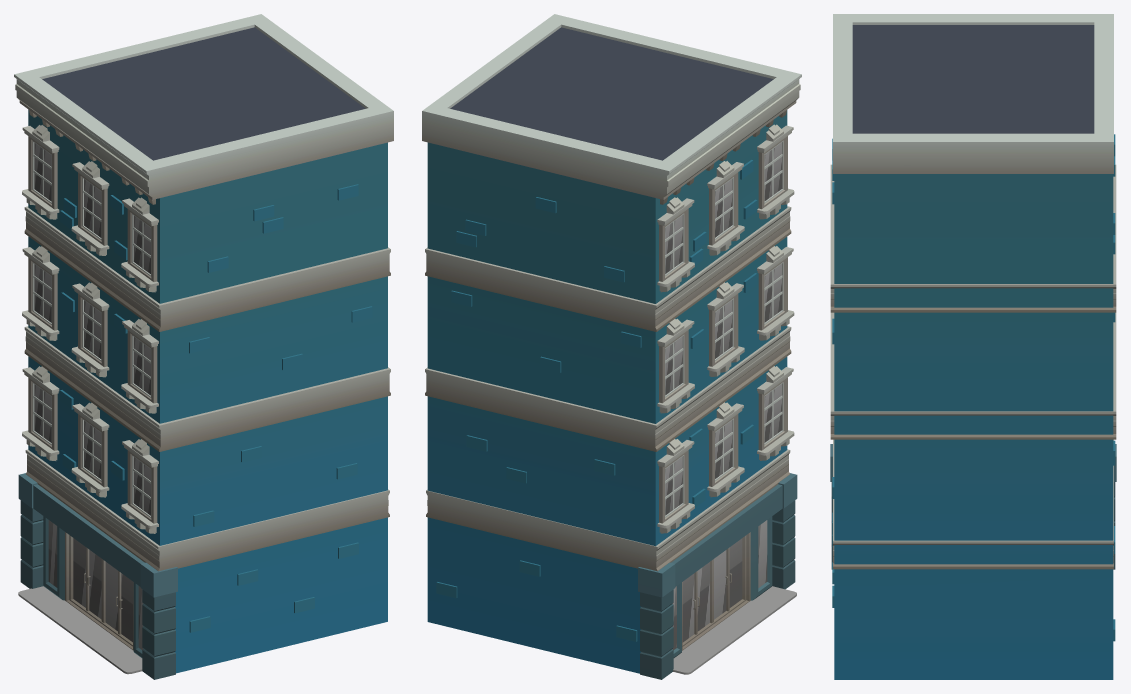
Rendered from Building_21_2_J.fbx.
3 renders of one model, left to right at view 1: azimuth 30°, elevation 25°; view 2: azimuth 150°, elevation 25°; view 3: azimuth 270°, elevation 25°, orthographic. The views are drawn at different scales.
Parts seen in each view (by area): view 1: Building_21_2_J; view 2: Building_21_2_J; view 3: Building_21_2_J.
Part boxes in pixels (box(x1,y1,x2,y2)): Building_21_2_J: box(14, 14, 393, 679); Building_21_2_J: box(422, 14, 801, 679); Building_21_2_J: box(830, 14, 1116, 679).
Size of the model in its own units: 779 by 1485 by 713.
